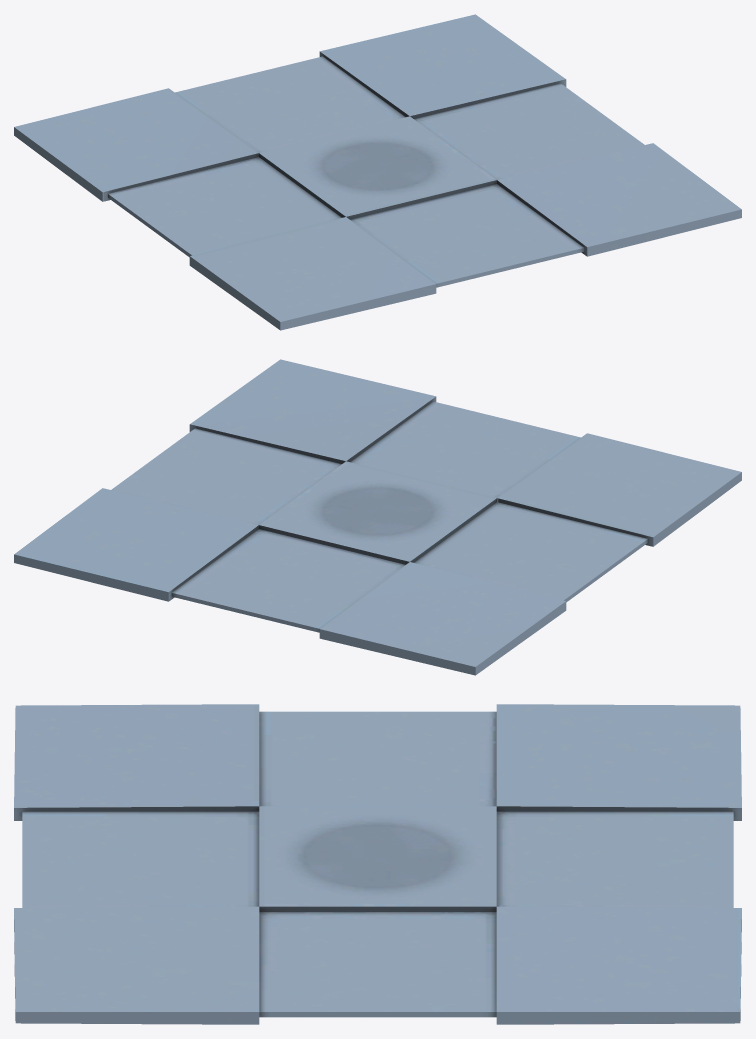
File: PlanarForce.DAE
3 renders of one model, top to bottom at view 1: azimuth 30°, elevation 25°; view 2: azimuth 150°, elevation 25°; view 3: azimuth 270°, elevation 25°, orthographic. The views are drawn at different scales.
Parts seen in each view (by area): view 1: planarForce_PIVOT; view 2: planarForce_PIVOT; view 3: planarForce_PIVOT.
Part boxes in pixels (x1,y1,x2,y2): planarForce_PIVOT: (14, 14, 741, 330); planarForce_PIVOT: (14, 359, 741, 675); planarForce_PIVOT: (14, 704, 741, 1024).
Size of the model in its own units: 81.02 by 81.02 by 1.98.
Materials: 1 (1 with a texture image).
